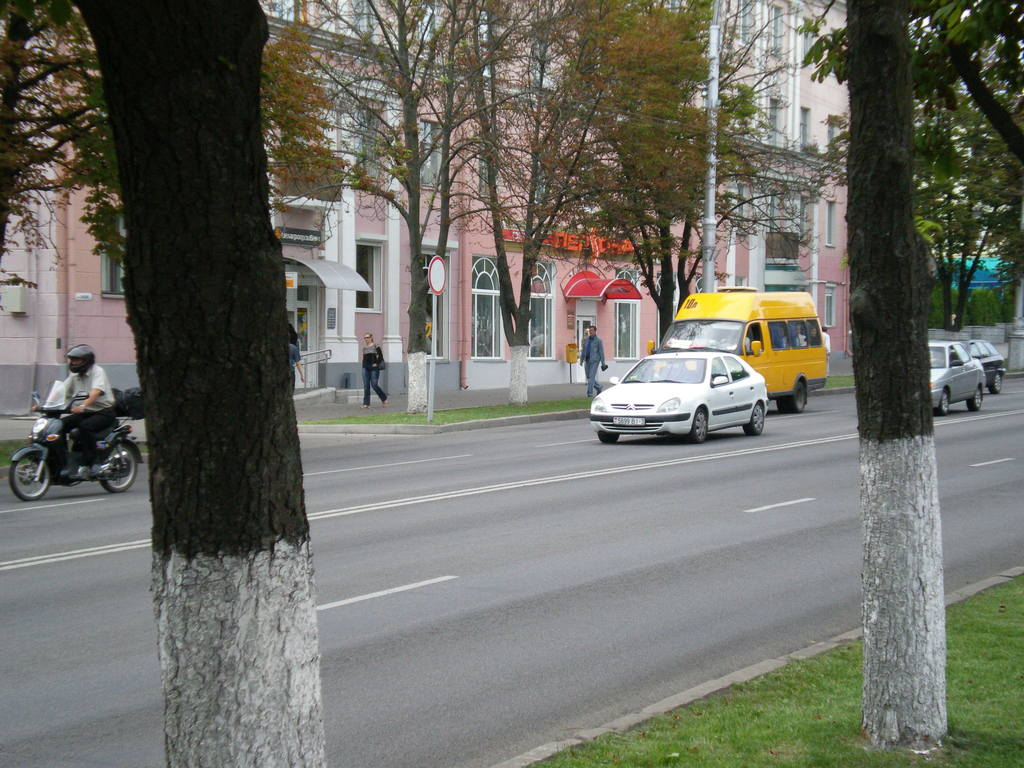cars: (589, 337, 793, 440), (928, 340, 986, 410), (960, 337, 1010, 395)
